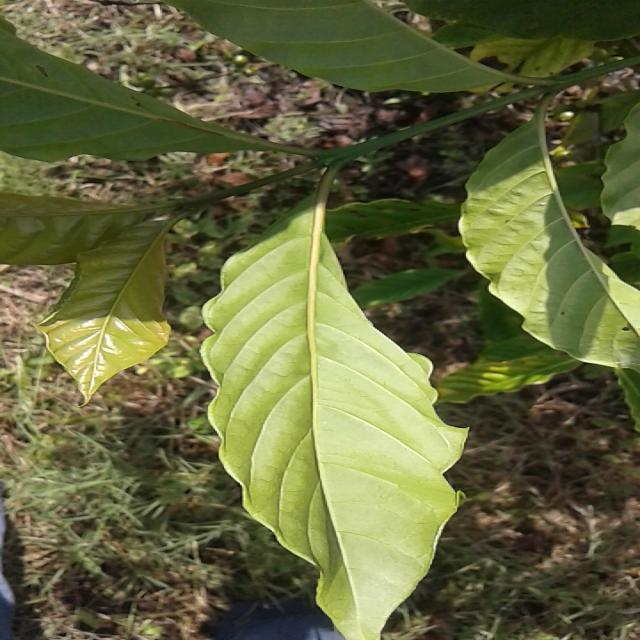Sanas: (199, 178, 469, 640)
